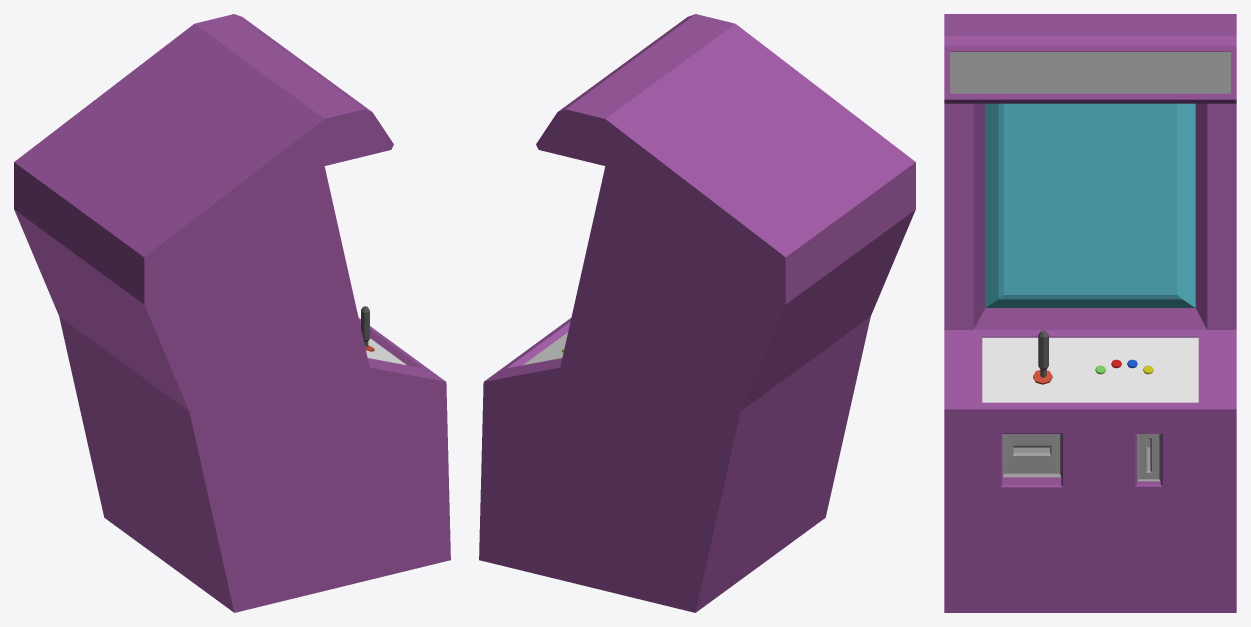
The model's file is ArcadeGameMachine.fbx.
The picture shows the model from 3 angles, left to right: view 1: azimuth 30°, elevation 25°; view 2: azimuth 150°, elevation 25°; view 3: azimuth 270°, elevation 25°; orthographic projection. The views are drawn at different scales.
Parts seen in each view (by area): view 1: Cube.005; view 2: Cube.005; view 3: Cube.005.
Boxes of the visible parts, bbox=[...] form: Cube.005: bbox=[14, 14, 450, 612]; Cube.005: bbox=[479, 14, 915, 612]; Cube.005: bbox=[944, 14, 1236, 612].
Size of the model in its own units: 680 by 1000 by 500.
